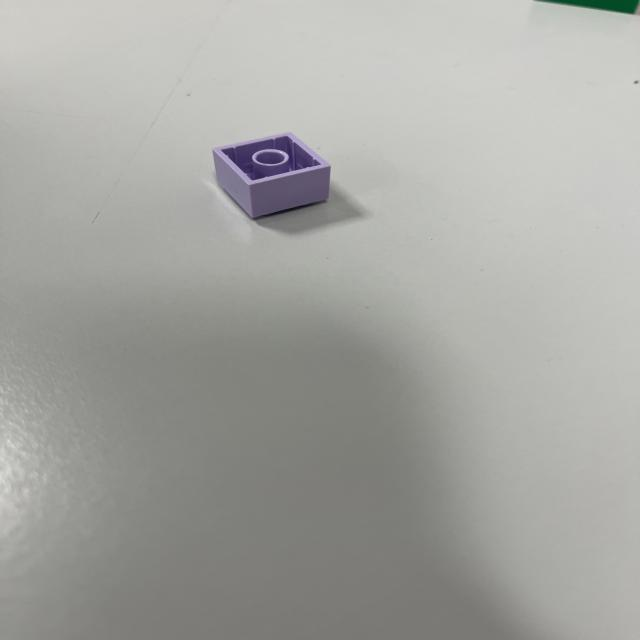C2x2x1: (211, 131, 332, 219)
